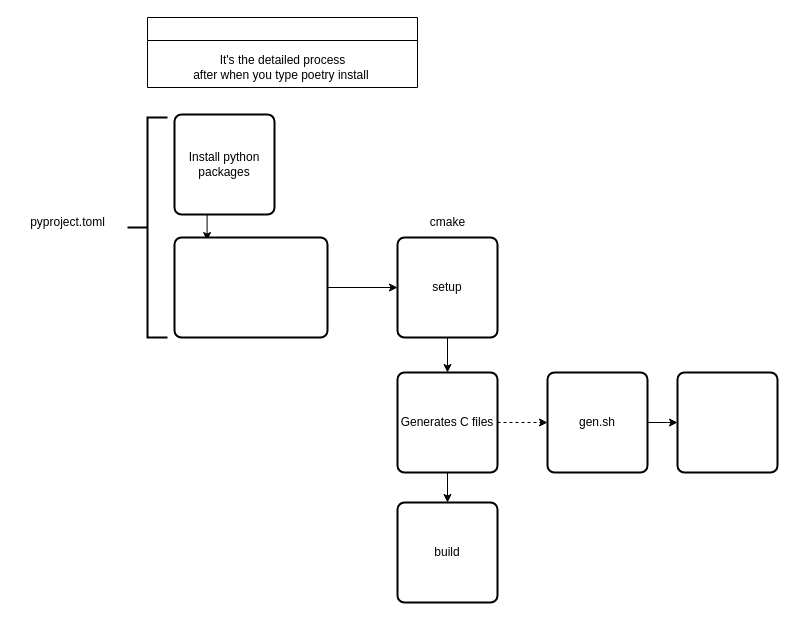
This 795x621 diagram has some shape labels left out. The box of each missing label's shape, as (x1, y1, x2, y2) in pixels:
Build Process: (146, 16, 418, 88)
Call build_package.py': (173, 236, 328, 338)
preprocessor.py: (676, 371, 778, 473)
